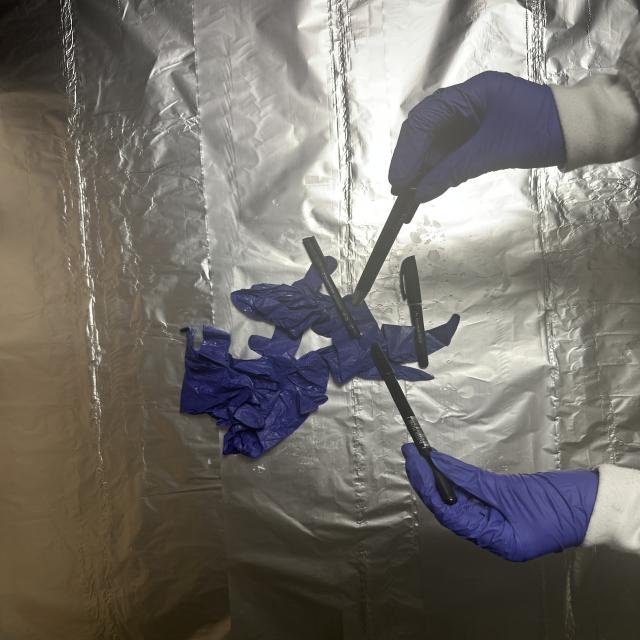gloves_contaminated: (389, 71, 567, 203), (402, 444, 598, 562)
